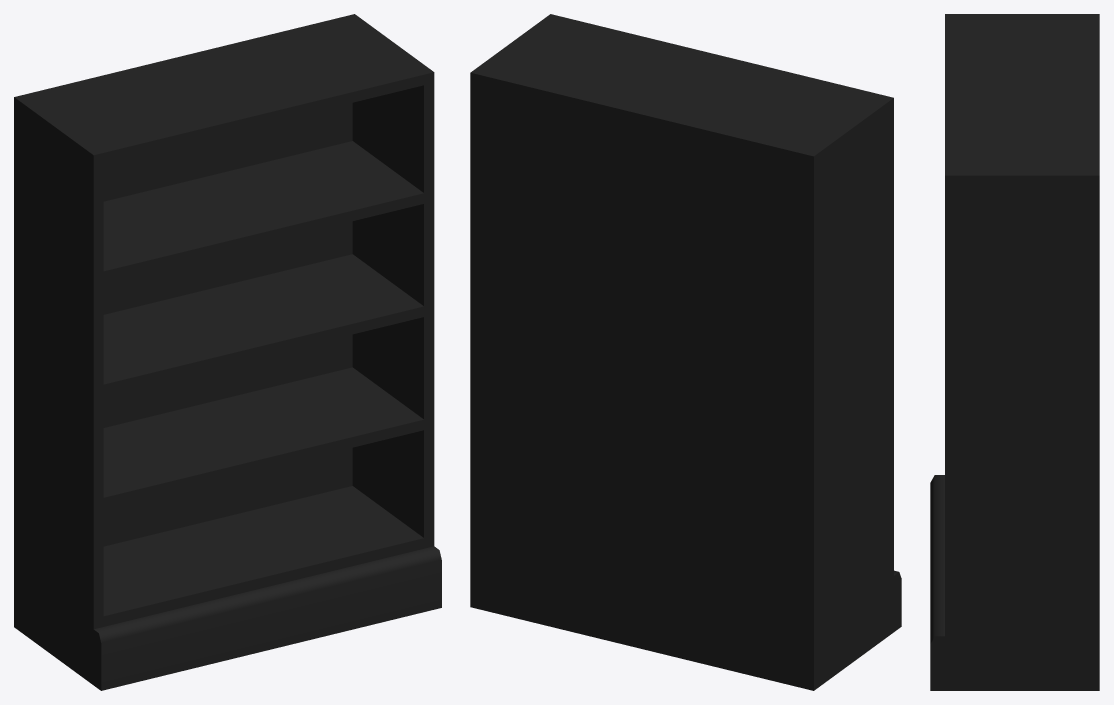
File: cupboard_024.fbx
The picture shows the model from 3 angles, left to right: view 1: azimuth 30°, elevation 25°; view 2: azimuth 150°, elevation 25°; view 3: azimuth 270°, elevation 25°; orthographic projection. The views are drawn at different scales.
Parts seen in each view (by area): view 1: cupboard_024; view 2: cupboard_024; view 3: cupboard_024.
Boxes of the visible parts, x1,y1,x2,y2 form: cupboard_024: (14, 14, 441, 690); cupboard_024: (470, 14, 901, 690); cupboard_024: (930, 14, 1099, 690).
Bounding box in the file's own units: 157 × 69.47 × 233.
